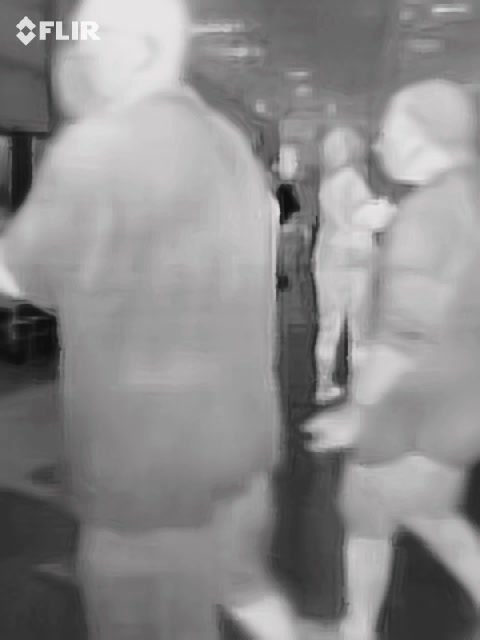head: (52, 1, 187, 117), (372, 81, 475, 185)
